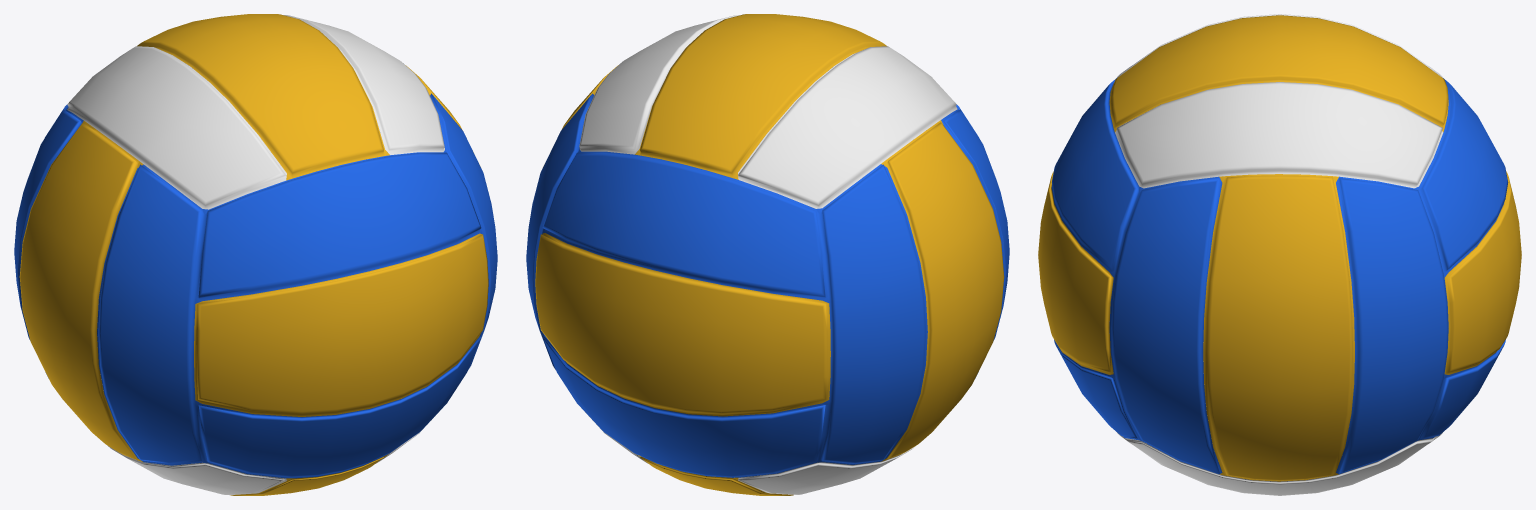
Rendered from pallone.glb.
3 renders of one model, left to right at view 1: azimuth 30°, elevation 25°; view 2: azimuth 150°, elevation 25°; view 3: azimuth 270°, elevation 25°, orthographic.
Visible parts, largest first — view 1: GLTF_created_0; view 2: GLTF_created_0; view 3: GLTF_created_0.
Boxes of the visible parts, bbox=[...] form: GLTF_created_0: bbox=[14, 14, 497, 495]; GLTF_created_0: bbox=[526, 14, 1009, 495]; GLTF_created_0: bbox=[1038, 14, 1521, 495].
Bounding box in the file's own units: 2.6 × 2.6 × 2.6.
